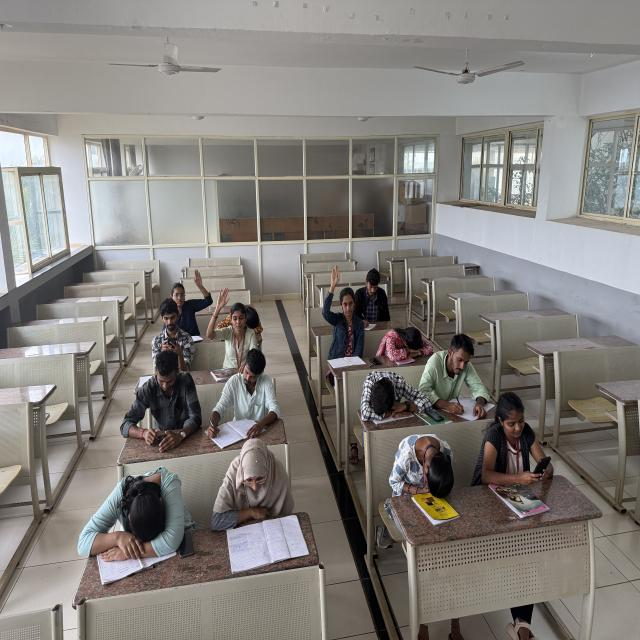Hand Rising: (207, 286, 257, 366), (321, 263, 366, 350), (167, 266, 211, 329)
Reading: (215, 432, 313, 549)
Sleeping: (73, 466, 188, 558), (387, 429, 457, 494), (358, 368, 430, 418), (377, 321, 439, 358)
Using Phone: (116, 346, 200, 442), (481, 388, 561, 484), (146, 298, 195, 362)
Writing: (206, 342, 280, 438), (421, 330, 495, 418), (356, 269, 390, 331)
